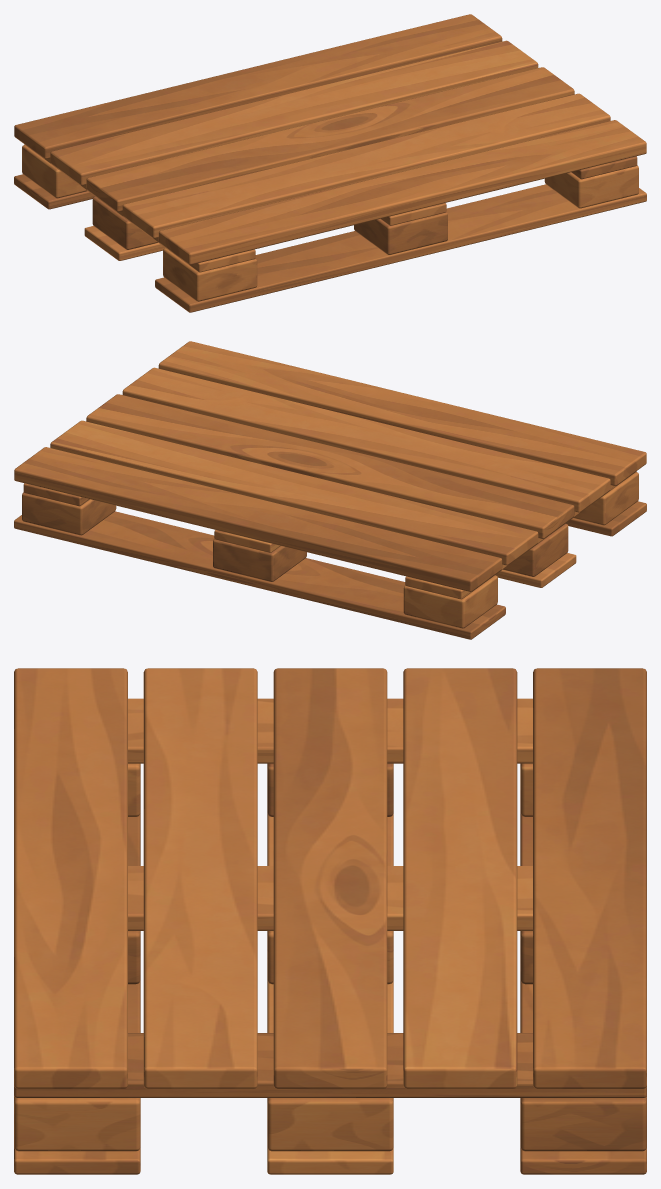
File: Pallet_01.fbx
3 views of the same model, one above another, from view 1: azimuth 30°, elevation 25°; view 2: azimuth 150°, elevation 25°; view 3: azimuth 270°, elevation 25° (orthographic). The views are drawn at different scales.
Parts seen in each view (by area): view 1: Pallet_01_Mesh; view 2: Pallet_01_Mesh; view 3: Pallet_01_Mesh.
Boxes of the visible parts, bbox=[...] form: Pallet_01_Mesh: bbox=[14, 14, 646, 312]; Pallet_01_Mesh: bbox=[14, 341, 646, 639]; Pallet_01_Mesh: bbox=[14, 668, 646, 1174].
Bounding box in the file's own units: 1.2 × 0.15 × 0.8.
